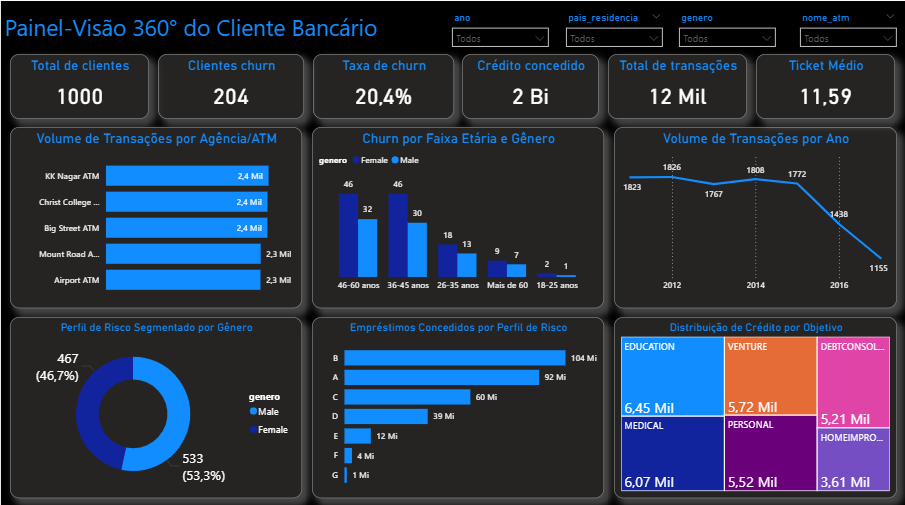

The dashboard page shown, as its layout file describes it:
{"tool":"powerbi","page":{"name":"Página 1","canvas":[1280,720],"ordinal":0},"visuals":[{"type":"textbox","box":[0,9.9,616.5,55.3],"z":0},{"type":"slicer","fields":{"Values":["d_calendario.ano"]},"box":[629.3,9.9,157.3,65.2],"z":1000},{"type":"slicer","fields":{"Values":["d_agencias_atm.nome_atm"]},"box":[1122.5,9.9,157.3,65.2],"z":2000},{"type":"slicer","fields":{"Values":["d_clientes_churn.genero"]},"box":[951.5,9.9,157.3,65.2],"z":3000},{"type":"slicer","fields":{"Values":["d_clientes_churn.pais_residencia"]},"box":[790.4,9.9,157.3,65.2],"z":4000},{"type":"card","title":"Taxa de churn","fields":{"Values":["d_clientes_churn.Taxa de churn(%)"]},"box":[441.6,75.1,199.8,92.1],"z":5000},{"type":"card","title":"Crédito concedido","fields":{"Values":["f_credito_risco.Total Crédito Concedido"]},"box":[654,75.1,194.2,92.1],"z":6000},{"type":"card","title":"Total de transações","fields":{"Values":["f_transacoes.Total de transações"]},"box":[860.6,75.1,197,92.1],"z":7000},{"type":"card","title":"Clientes churn","fields":{"Values":["d_clientes_churn.Clientes Churn"]},"box":[222.2,75.1,206.9,92.1],"z":8000},{"type":"card","title":"Total de clientes","fields":{"Values":["f_transacoes.Total cliente"]},"box":[12.8,75.1,197,92.1],"z":9000},{"type":"clusteredBarChart","title":"Volume de Transações por Agência/ATM","fields":{"Y":["f_transacoes.Total de transações"],"Category":["d_agencias_atm.nome_atm"]},"box":[12.8,178.6,413.9,256.5],"z":10000},{"type":"clusteredColumnChart","title":"Churn por Faixa Etária e Gênero","fields":{"Category":["d_clientes_churn.Faixa Etária"],"Y":["Sum(d_clientes_churn.cliente_saiu)"],"Series":["d_clientes_churn.genero"]},"box":[440.8,178.6,413.9,256.5],"z":11000},{"type":"lineChart","title":"Volume de Transações por Ano","fields":{"Category":["d_calendario.data_id.Variation.Date Hierarchy.Year"],"Y":["f_transacoes.Total de transações"]},"box":[868.8,178.6,401.1,256.5],"z":12000},{"type":"donutChart","title":"Perfil de Risco Segmentado por Gênero","fields":{"Y":["f_credito_risco.Qtd Clientes por Risco"],"Category":["d_clientes_churn.genero"]},"box":[12.8,447.9,413.9,256.5],"z":13000},{"type":"barChart","title":"Empréstimos Concedidos por Perfil de Risco","fields":{"Category":["f_credito_risco.classificacao_risco"],"Y":["Sum(f_credito_risco.valor_emprestimo)"]},"box":[440.8,447.9,413.9,256.5],"z":14000},{"type":"treemap","title":"Distribuição de Crédito por Objetivo","fields":{"Group":["f_credito_risco.objetivo_emprestimo"],"Values":["CountNonNull(f_credito_risco.id_cliente)"]},"box":[868.8,447.9,401.1,256.5],"z":15000},{"type":"card","title":"Ticket Médio","fields":{"Values":["f_transacoes.Ticket Médio Cliente"]},"box":[1070.1,75.1,197,92.1],"z":15001}]}

Visuals, with their boxes in screenshot pixels (x1, y1, x2, y2), scaled from the page's 1280x720 canvas onto the 905x505 screenshot:
textbox: locate(0, 7, 436, 46)
slicer - d_calendario.ano: locate(445, 7, 556, 53)
slicer - d_agencias_atm.nome_atm: locate(794, 7, 904, 53)
slicer - d_clientes_churn.genero: locate(673, 7, 784, 53)
slicer - d_clientes_churn.pais_residencia: locate(559, 7, 670, 53)
"Taxa de churn" card: locate(312, 53, 453, 117)
"Crédito concedido" card: locate(462, 53, 600, 117)
"Total de transações" card: locate(608, 53, 748, 117)
"Clientes churn" card: locate(157, 53, 303, 117)
"Total de clientes" card: locate(9, 53, 148, 117)
"Volume de Transações por Agência/ATM" clusteredBarChart: locate(9, 125, 302, 305)
"Churn por Faixa Etária e Gênero" clusteredColumnChart: locate(312, 125, 604, 305)
"Volume de Transações por Ano" lineChart: locate(614, 125, 898, 305)
"Perfil de Risco Segmentado por Gênero" donutChart: locate(9, 314, 302, 494)
"Empréstimos Concedidos por Perfil de Risco" barChart: locate(312, 314, 604, 494)
"Distribuição de Crédito por Objetivo" treemap: locate(614, 314, 898, 494)
"Ticket Médio" card: locate(757, 53, 896, 117)
